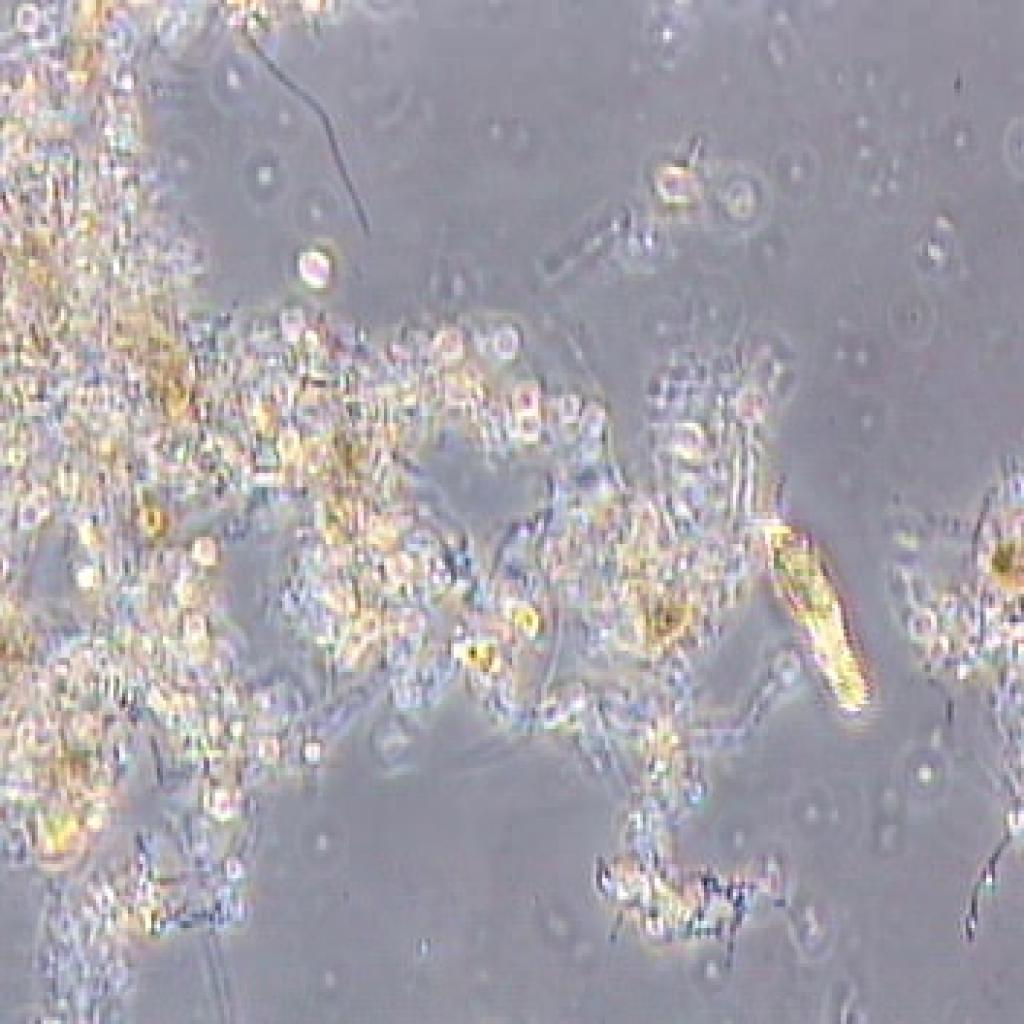Chaetonotus: (745, 514, 890, 727)
